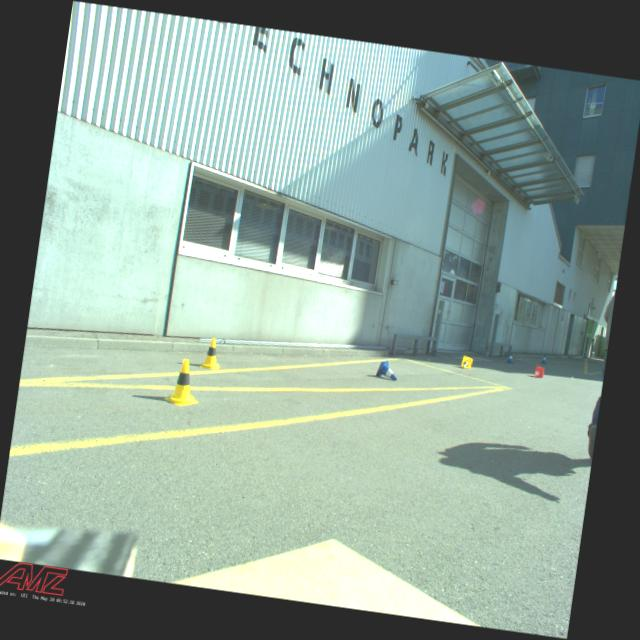blue_cone: (376, 359, 400, 382), (506, 352, 515, 364), (540, 354, 548, 364)
orange_cone: (533, 366, 545, 378)
yellow_cone: (163, 356, 204, 408), (200, 338, 223, 370), (461, 356, 474, 370)
